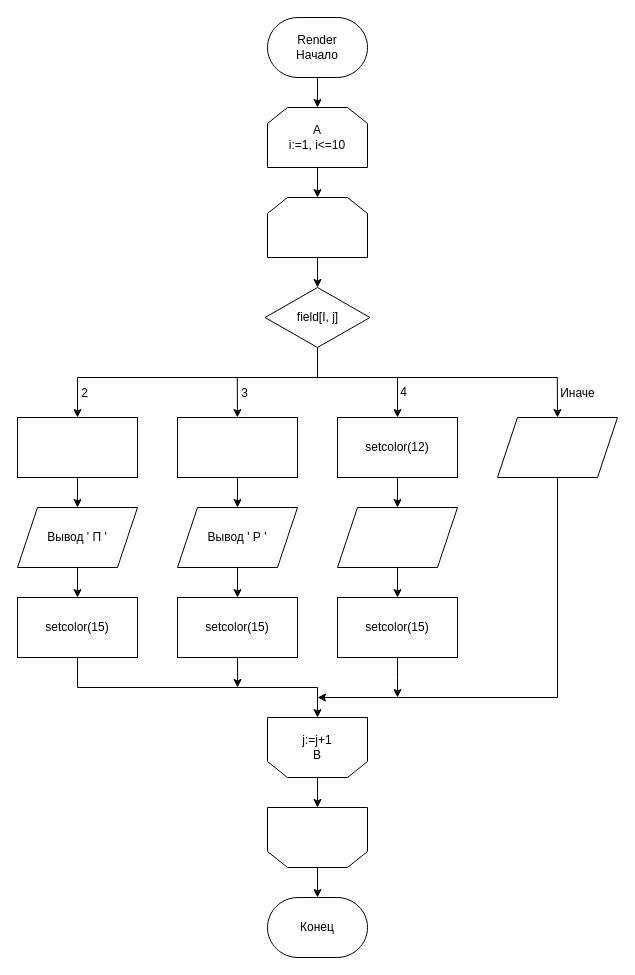
Some shapes in this 635 by 975 pixel diagram are drawn without their labels. Here are the shapes that lost their labels. From the top down, the box of each, then its label:
(266, 196, 368, 258): B j:=1, j<=10
(16, 416, 138, 478): setcolor(2)
(176, 416, 298, 478): setcolor(14)
(496, 416, 618, 478): Вывод ' '
(336, 506, 458, 568): Вывод ' У '
(266, 806, 368, 868): i:=i+1 A
